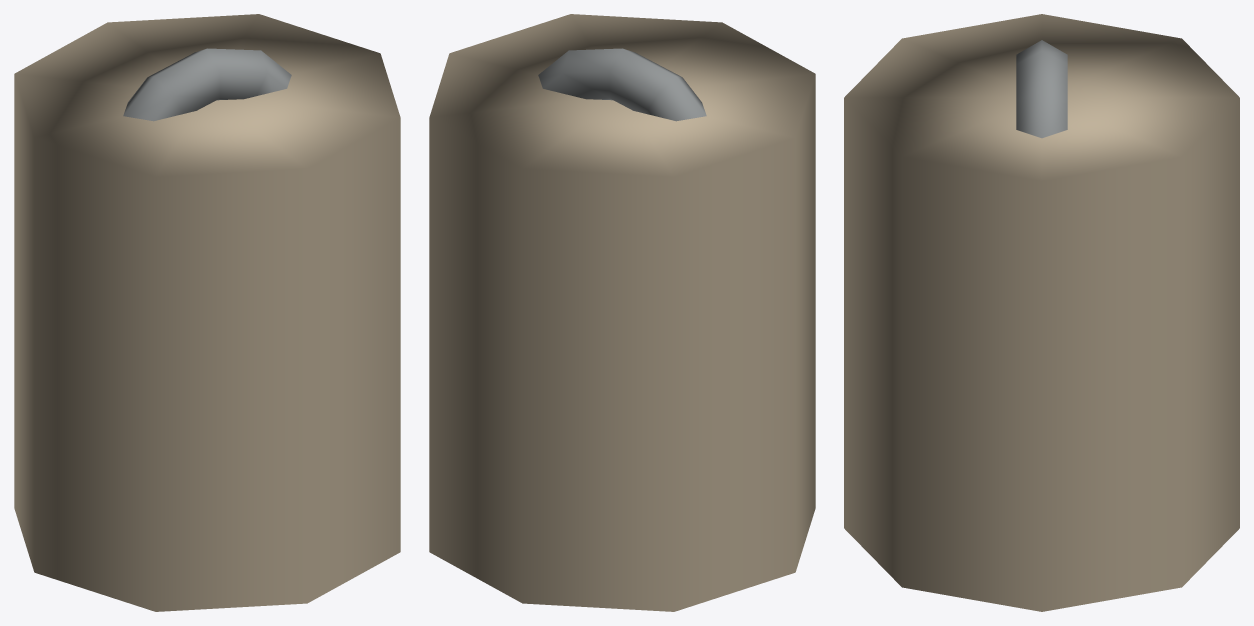
File: waterBarrel.glb
3 renders of one model, left to right at view 1: azimuth 30°, elevation 25°; view 2: azimuth 150°, elevation 25°; view 3: azimuth 270°, elevation 25°, orthographic.
Visible parts, largest first — view 1: barrel, ringTop; view 2: barrel, ringTop; view 3: barrel, ringTop.
Part boxes in pixels (x1,y1,x2,y2): barrel: (14, 14, 400, 611); ringTop: (123, 48, 291, 121); barrel: (429, 14, 815, 611); ringTop: (538, 48, 706, 121); barrel: (844, 14, 1239, 611); ringTop: (1016, 40, 1067, 138).
Size of the model in its own units: 1 by 1.46 by 1.
